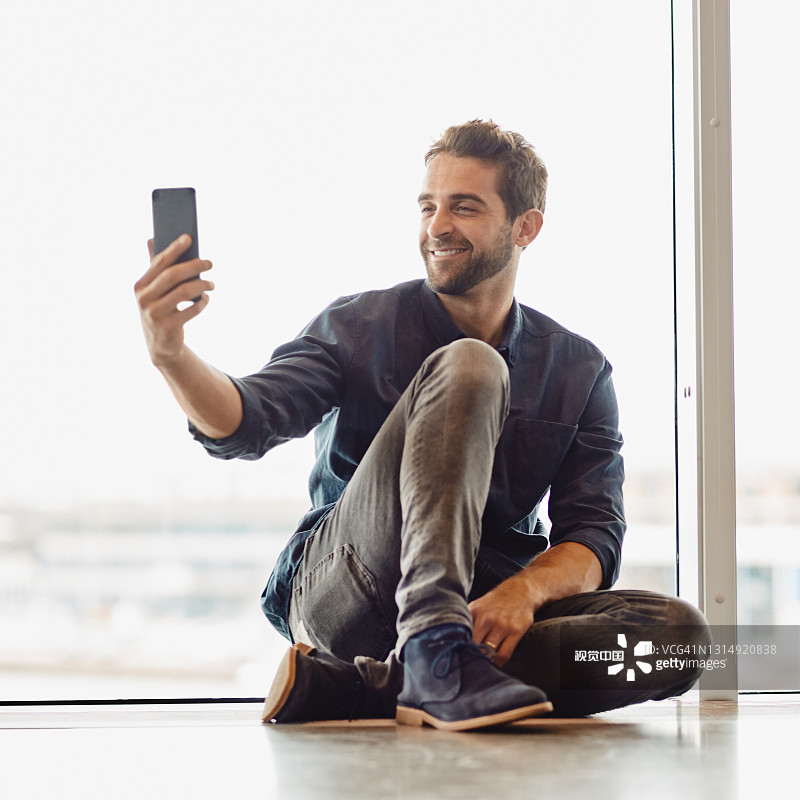no-phone: (462, 565, 562, 669)
taking photos: (113, 195, 229, 392)
